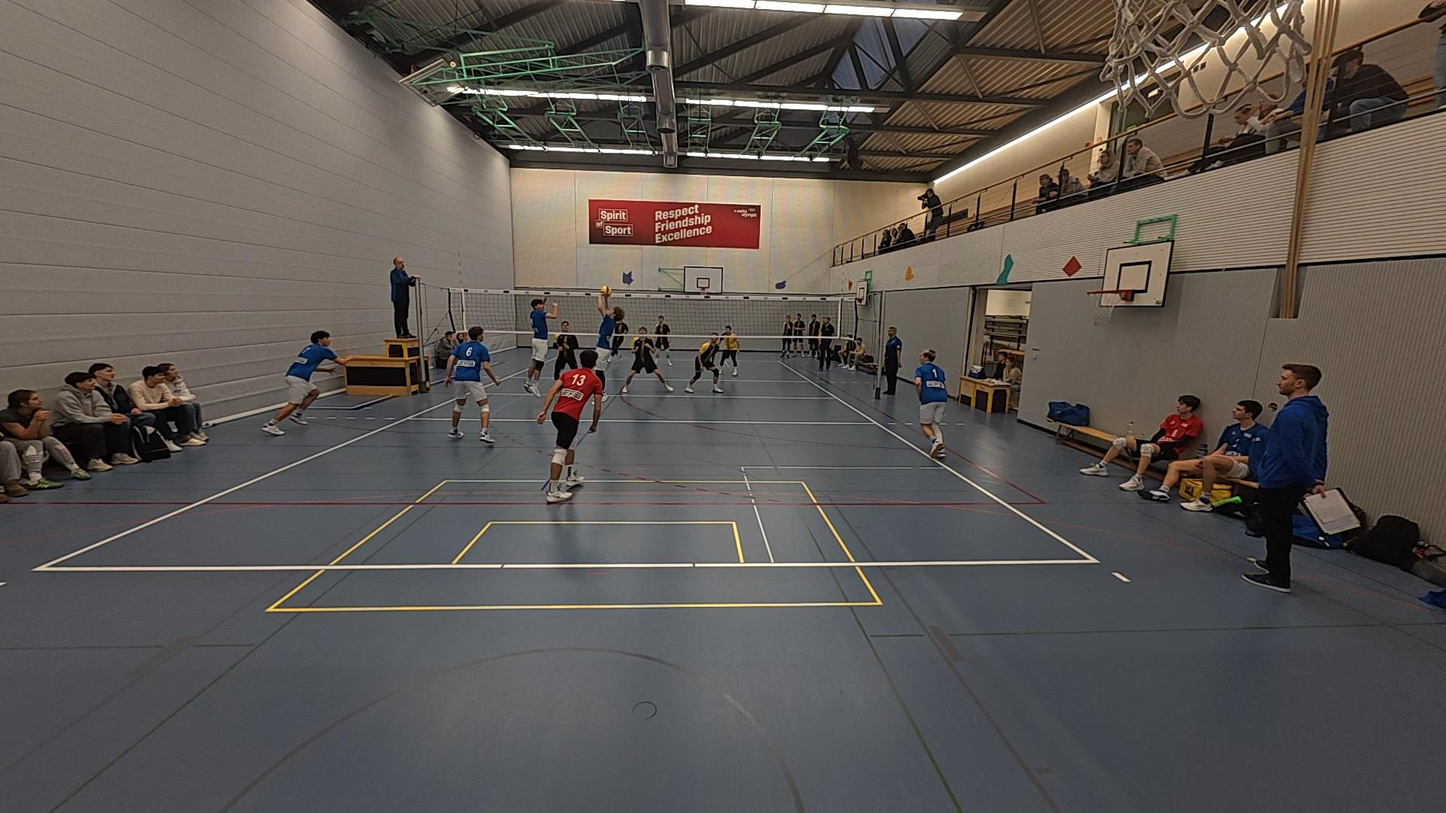Player: (537, 349, 602, 504), (262, 330, 342, 437), (448, 327, 502, 444), (913, 349, 950, 460), (622, 325, 674, 396), (521, 295, 552, 395), (682, 333, 723, 395), (548, 321, 578, 379), (607, 312, 633, 364), (719, 324, 741, 376), (651, 312, 673, 363)
Set: (587, 288, 626, 407)
ball: (599, 286, 612, 297)
